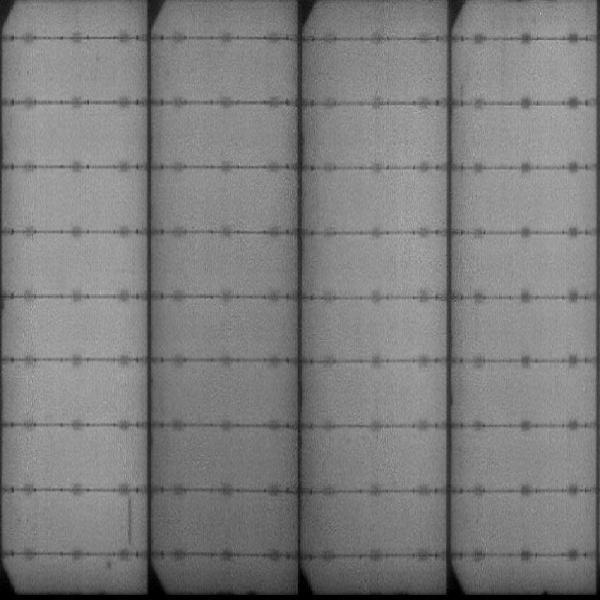scratch: (124, 493, 135, 547)
